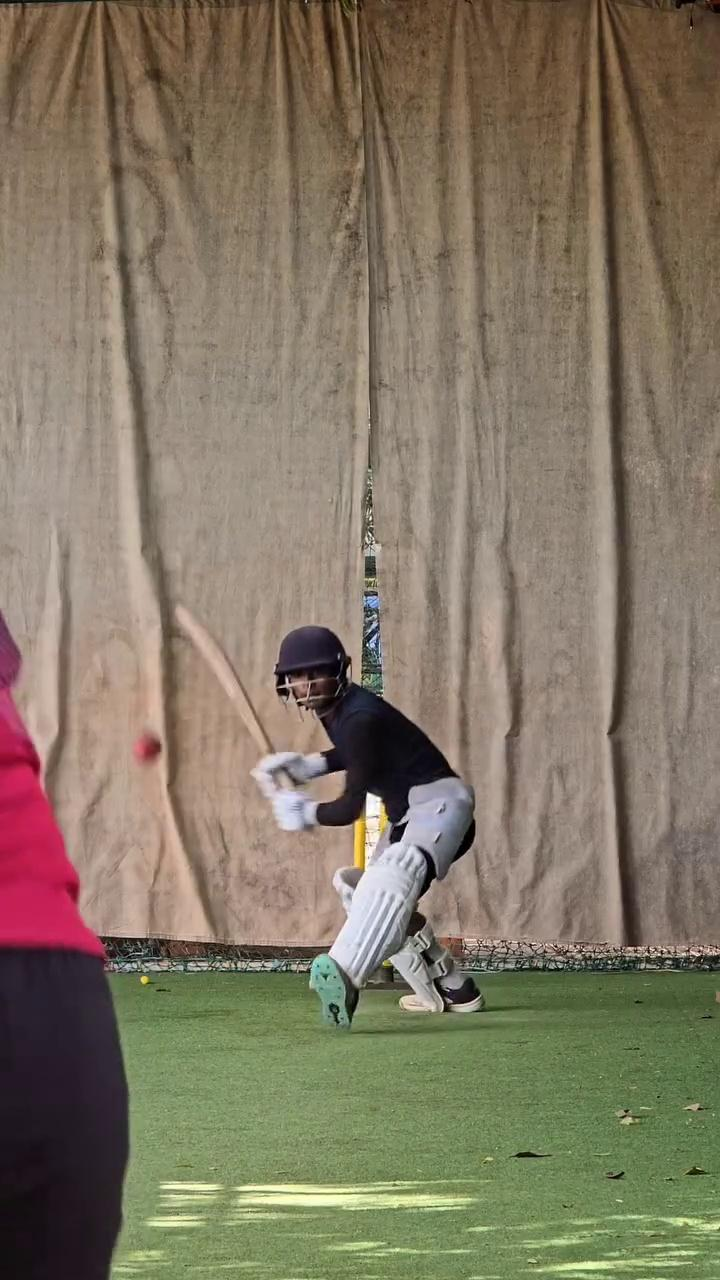bat: (168, 591, 278, 767)
